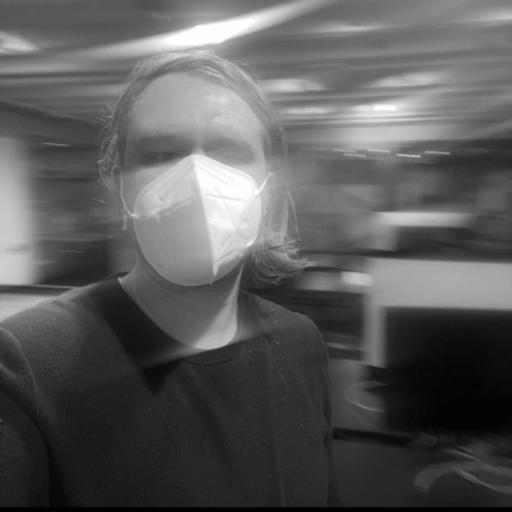mask: (93, 39, 304, 309)
